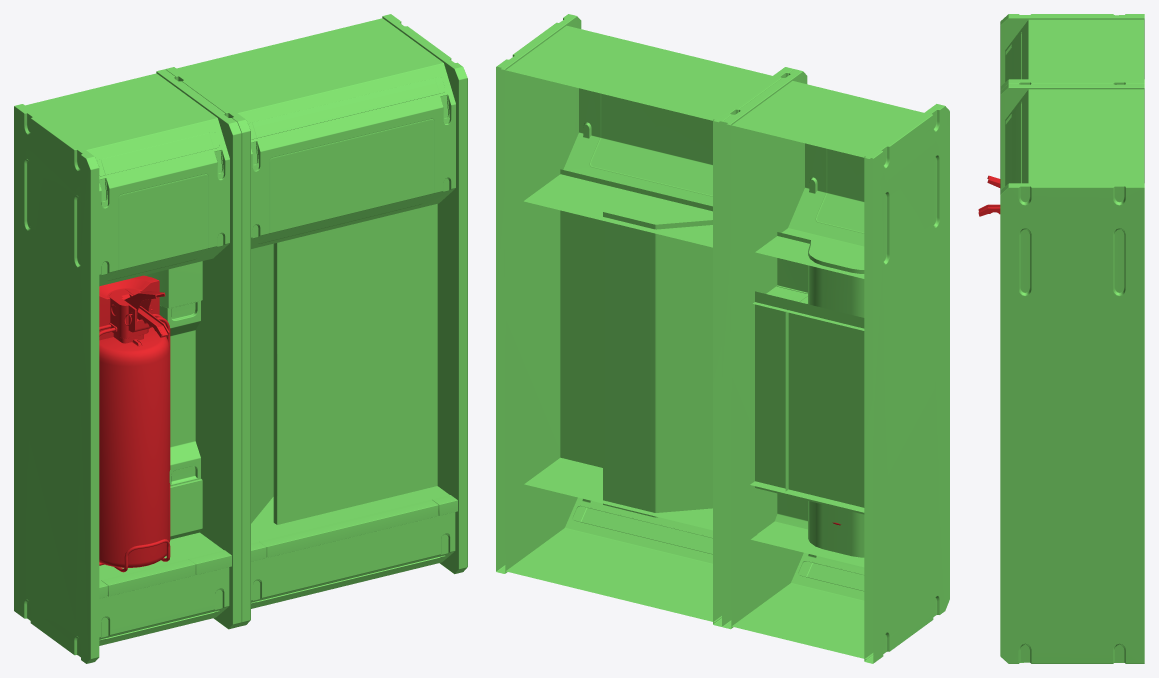
File: fire_extinguisher.fbx
3 renders of one model, left to right at view 1: azimuth 30°, elevation 25°; view 2: azimuth 150°, elevation 25°; view 3: azimuth 270°, elevation 25°, orthographic. The views are drawn at different scales.
Visible parts, largest first — view 1: fire_sheld_2, fire_shield_1, fire_ballon; view 2: fire_sheld_2, fire_shield_1; view 3: fire_sheld_2, fire_shield_1, fire_ballon.
Part boxes in pixels (x1,y1,x2,y2): fire_sheld_2: (165, 14, 467, 626); fire_shield_1: (14, 69, 241, 663); fire_ballon: (99, 275, 170, 572); fire_sheld_2: (496, 14, 793, 626); fire_shield_1: (722, 69, 949, 663); fire_sheld_2: (1000, 83, 1144, 663); fire_shield_1: (1000, 14, 1144, 90); fire_ballon: (978, 175, 1000, 216).
Bounding box in the file's own units: 86.16 × 110 × 34.82.
